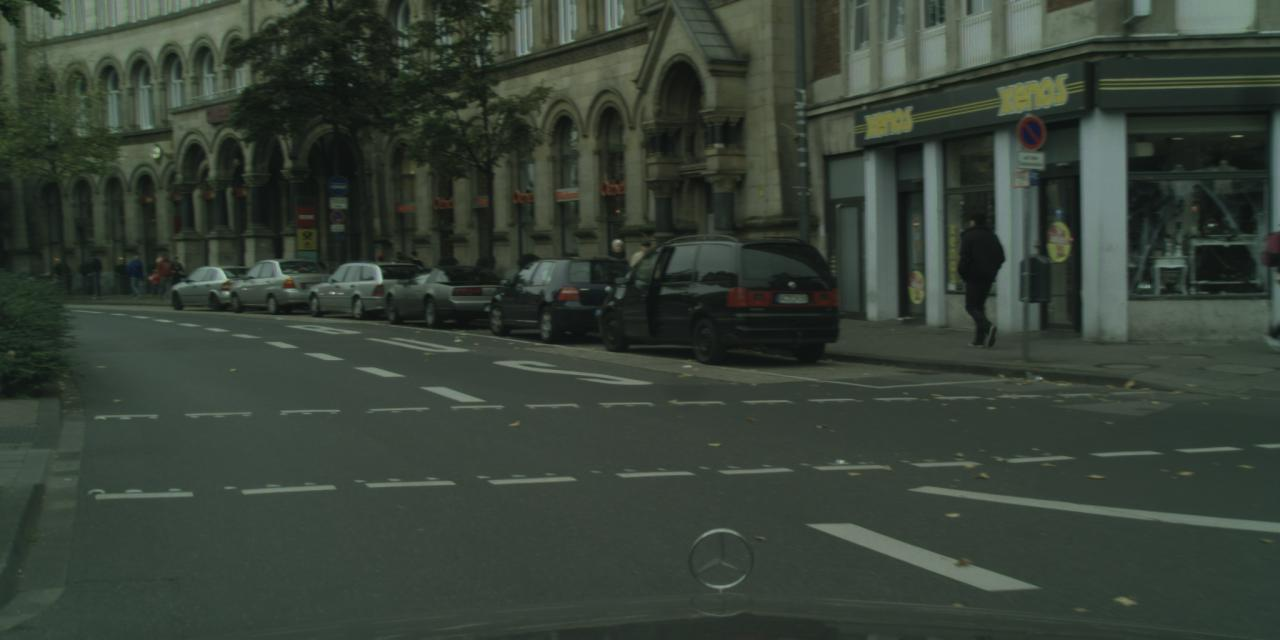ped: (953, 212, 1007, 344), (602, 238, 633, 315), (630, 240, 660, 314), (390, 251, 410, 302), (405, 251, 425, 301), (369, 254, 389, 302), (86, 254, 105, 298), (127, 255, 145, 299), (156, 253, 173, 298), (168, 256, 185, 298), (149, 269, 159, 296)
